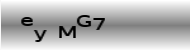7: (91, 16, 106, 30)
G: (76, 14, 92, 27)
M: (56, 24, 77, 40)
e: (20, 16, 34, 26)
y: (33, 29, 47, 42)
